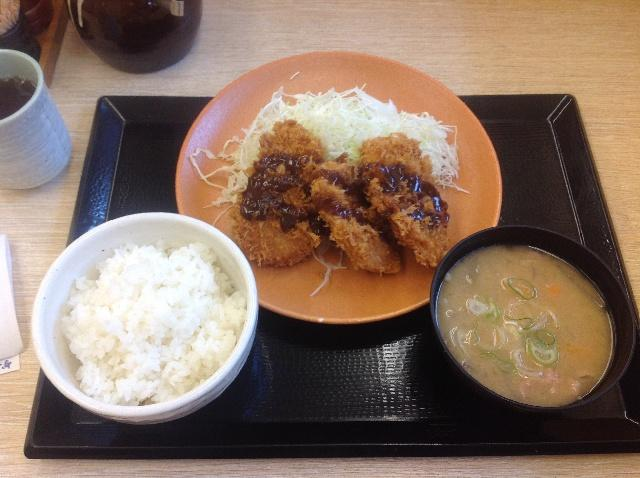rice: (61, 243, 247, 406)
